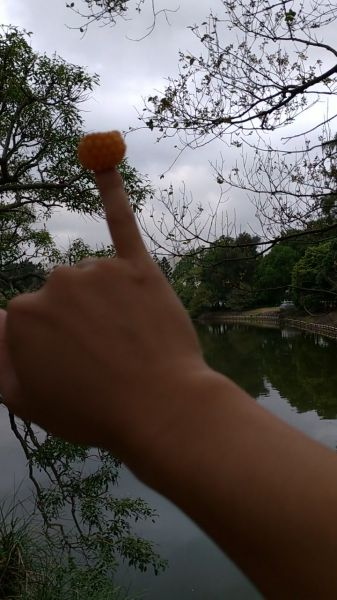eggs: (75, 132, 128, 169)
